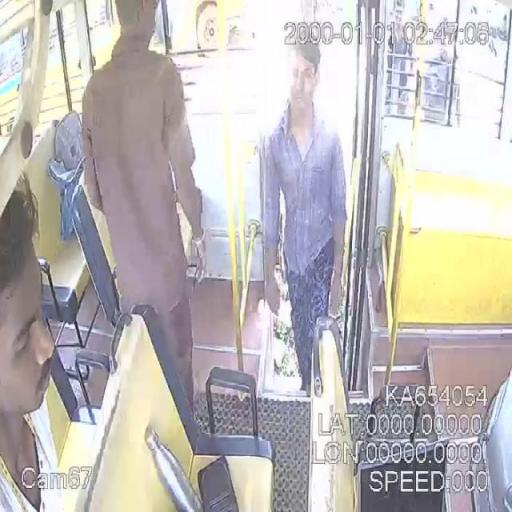persona: (80, 0, 208, 418), (255, 41, 349, 397), (0, 171, 62, 511)
